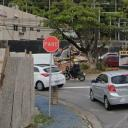Pare: (43, 36, 59, 53)
